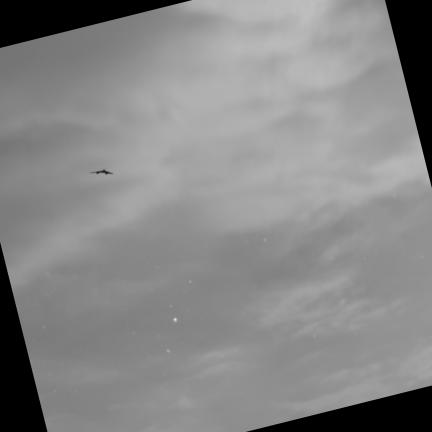Shahed: (90, 168, 112, 173)
